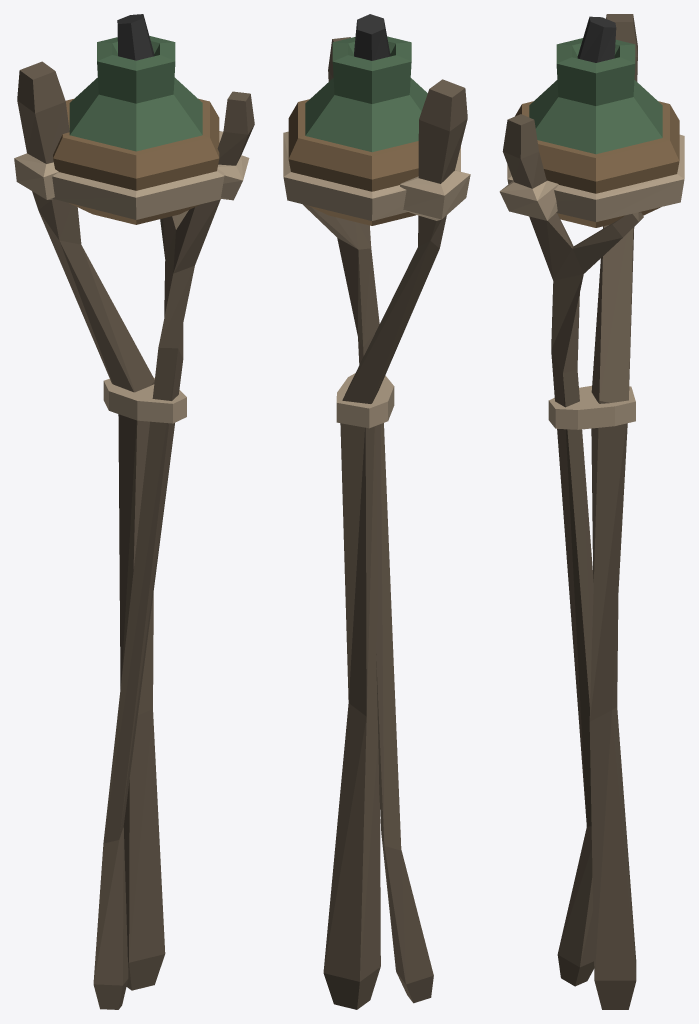
Rendered from SM_Prop_BottleTorch_01.glb.
3 renders of one model, left to right at view 1: azimuth 30°, elevation 25°; view 2: azimuth 150°, elevation 25°; view 3: azimuth 270°, elevation 25°, orthographic.
Visible parts, largest first — view 1: SM_Prop_BottleTorch_01_part00; view 2: SM_Prop_BottleTorch_01_part00; view 3: SM_Prop_BottleTorch_01_part00.
Boxes of the visible parts, box(x1,y1,x2,y2) form: SM_Prop_BottleTorch_01_part00: box(14, 14, 254, 1009); SM_Prop_BottleTorch_01_part00: box(283, 14, 470, 1009); SM_Prop_BottleTorch_01_part00: box(499, 14, 684, 1009).
Size of the model in its own units: 0.2943 by 1.47 by 0.2516.
Materials: 1 (1 with a texture image).
